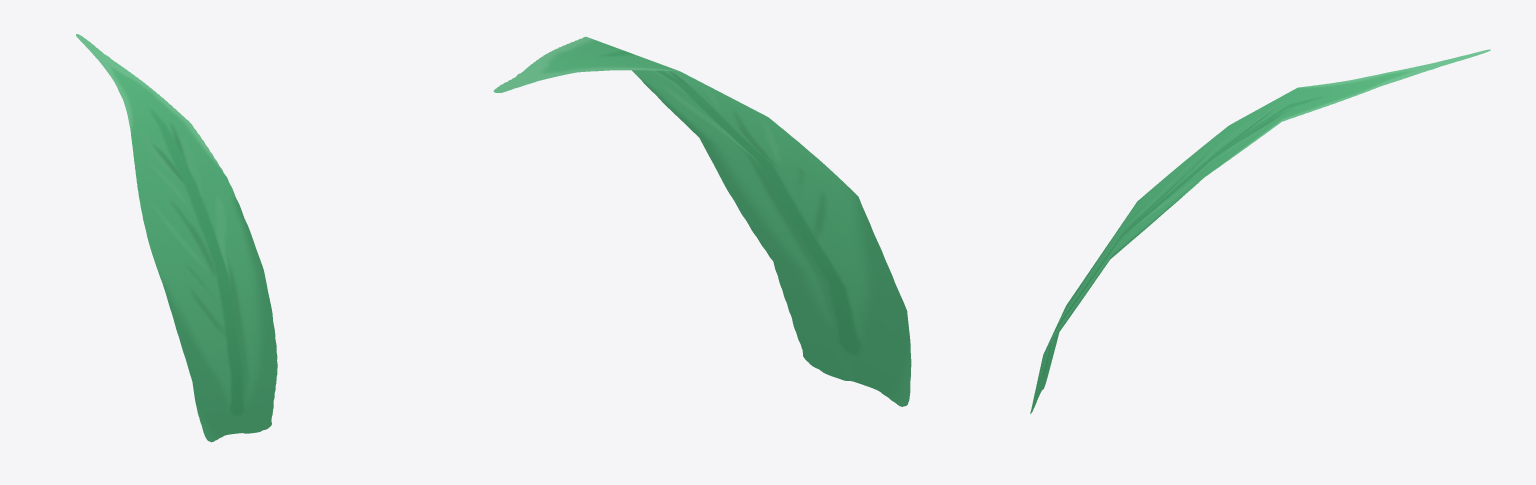
Rendered from HojaP_1.fbx.
The picture shows the model from 3 angles, left to right: view 1: azimuth 30°, elevation 25°; view 2: azimuth 150°, elevation 25°; view 3: azimuth 270°, elevation 25°; orthographic projection. The views are drawn at different scales.
Visible parts, largest first — view 1: HojaP_1; view 2: HojaP_1; view 3: HojaP_1.
Part boxes in pixels (x1,y1,x2,y2): HojaP_1: [76, 34, 277, 442]; HojaP_1: [493, 36, 911, 406]; HojaP_1: [1030, 49, 1490, 413].
Bounding box in the file's own units: 66.63 × 118 × 140.
